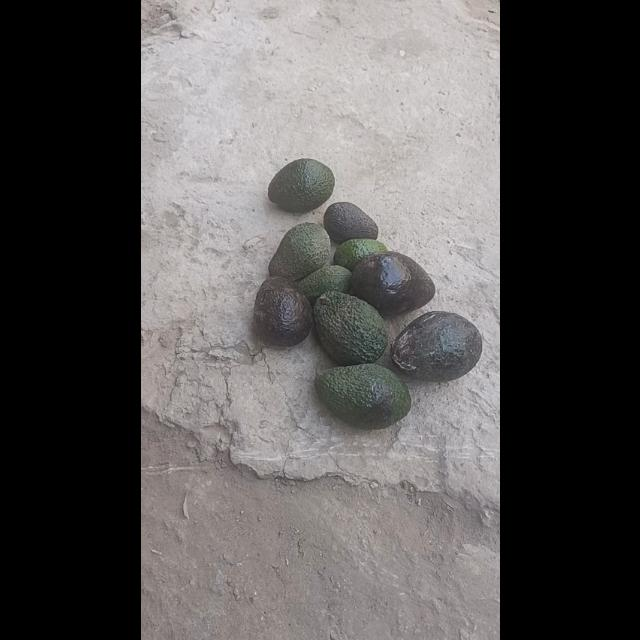Primera: (389, 309, 481, 381), (314, 362, 410, 428), (312, 290, 388, 364), (348, 250, 432, 316), (251, 276, 313, 344)
Segunda: (266, 158, 334, 212), (268, 222, 330, 280)
Tercera: (293, 263, 352, 307), (322, 201, 378, 243), (332, 238, 386, 272)
